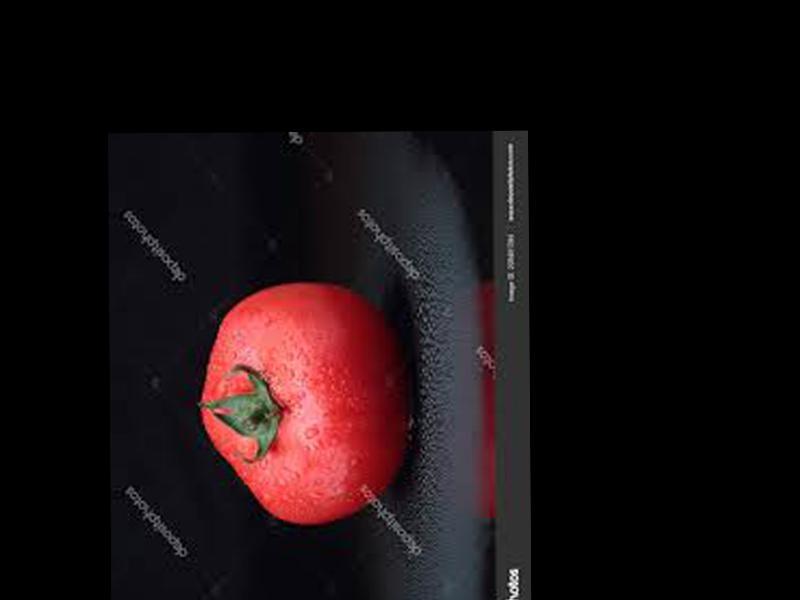Tomato: (197, 280, 410, 525)
